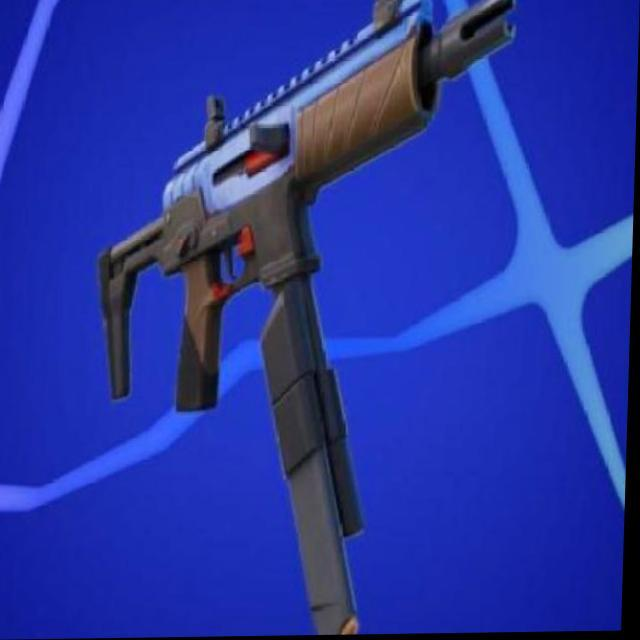weapon: (87, 0, 518, 639)
